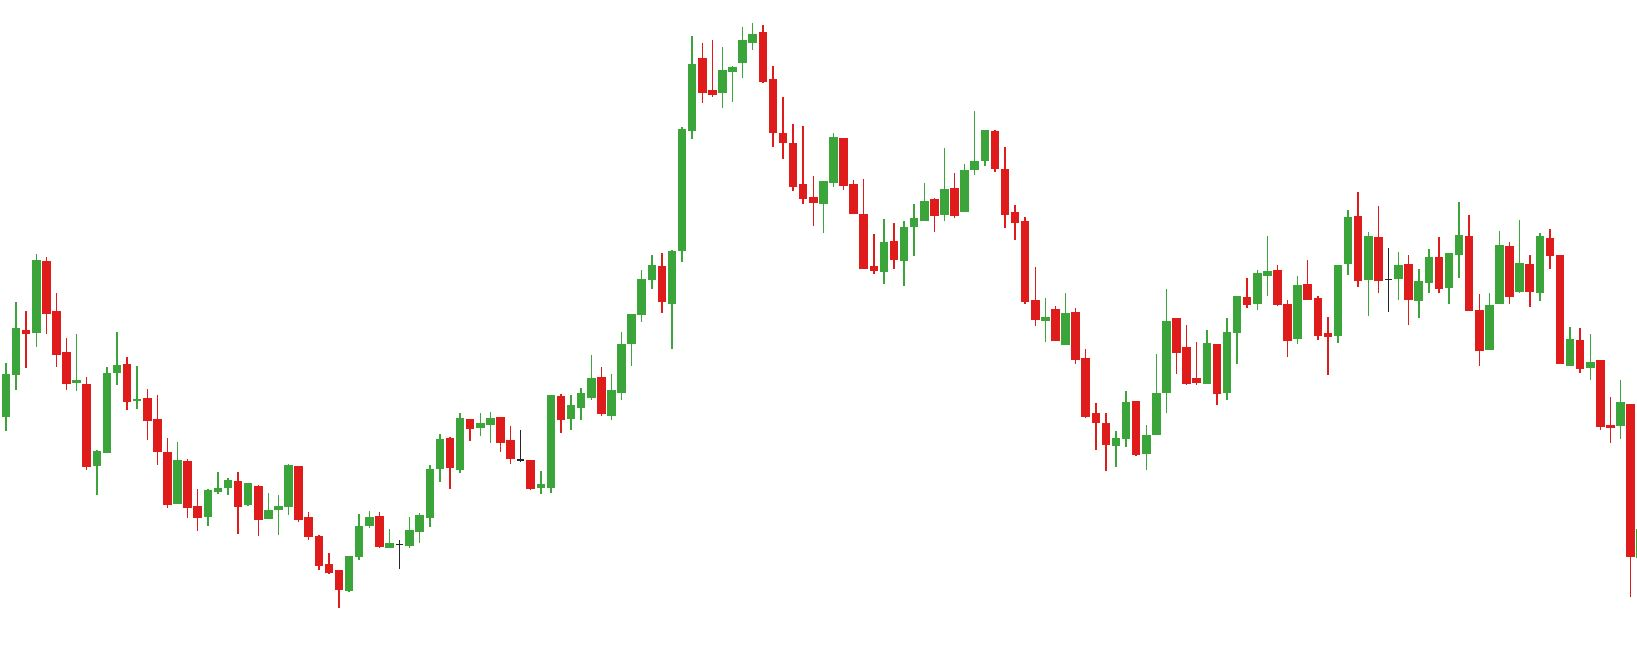buy: (443, 419, 559, 495)
sell: (1263, 189, 1365, 321), (686, 11, 768, 98)
